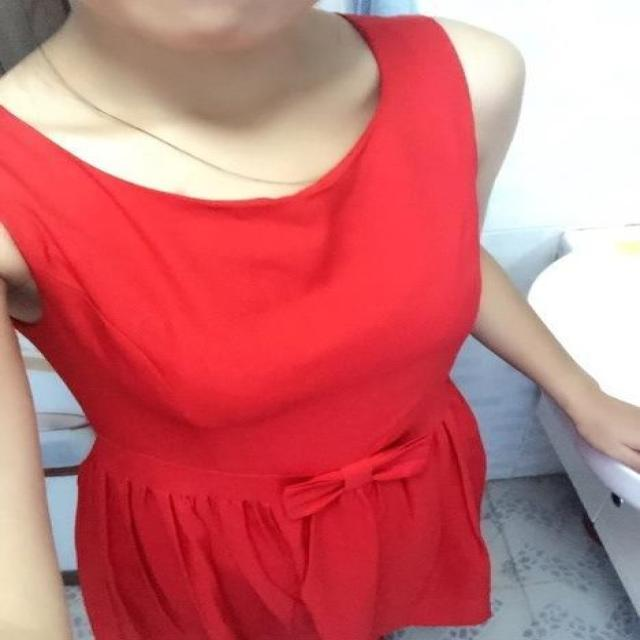short-sleeve-dress: (7, 44, 536, 621)
